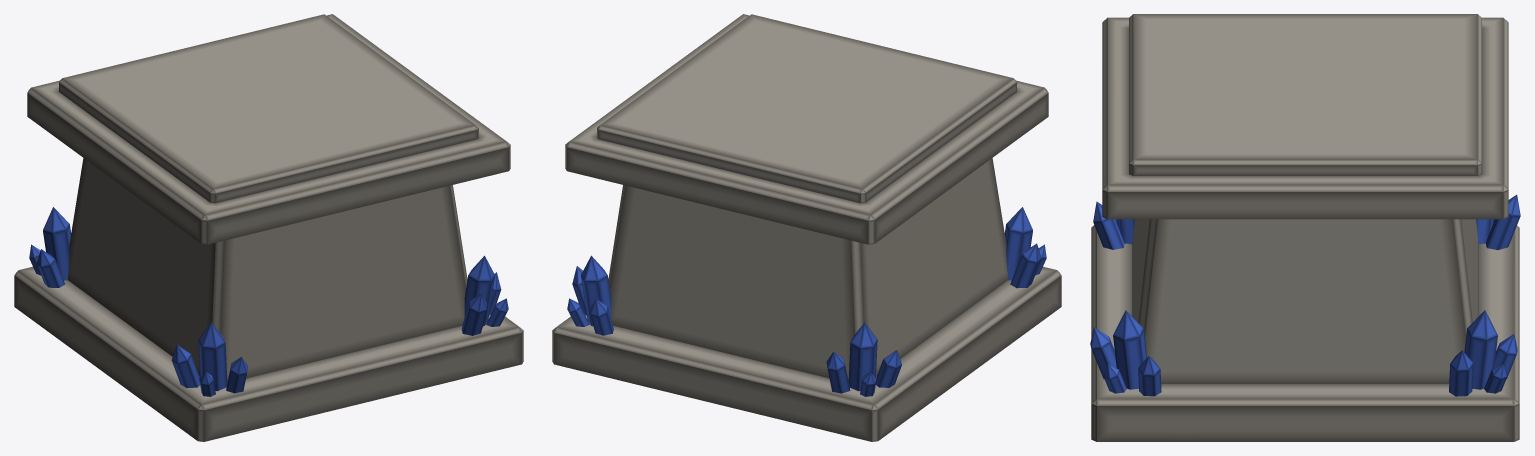
File: GeodeStand.fbx
3 renders of one model, left to right at view 1: azimuth 30°, elevation 25°; view 2: azimuth 150°, elevation 25°; view 3: azimuth 270°, elevation 25°, orthographic. The views are drawn at different scales.
Visible parts, largest first — view 1: GeodeStand, GeodeStand_Crystals; view 2: GeodeStand, GeodeStand_Crystals; view 3: GeodeStand, GeodeStand_Crystals.
Part boxes in pixels (x1,y1,x2,y2): GeodeStand: (14, 14, 523, 441); GeodeStand_Crystals: (29, 207, 508, 396); GeodeStand: (552, 14, 1061, 441); GeodeStand_Crystals: (567, 207, 1046, 396); GeodeStand: (1091, 14, 1519, 441); GeodeStand_Crystals: (1090, 194, 1520, 396).
Bounding box in the file's own units: 8.05 × 5.46 × 8.05.
